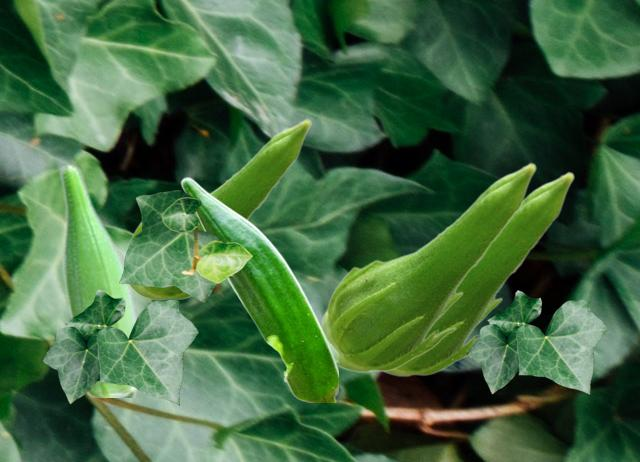okra: (321, 162, 536, 372), (384, 171, 574, 376), (180, 177, 337, 401), (123, 118, 311, 300), (58, 163, 139, 396)
